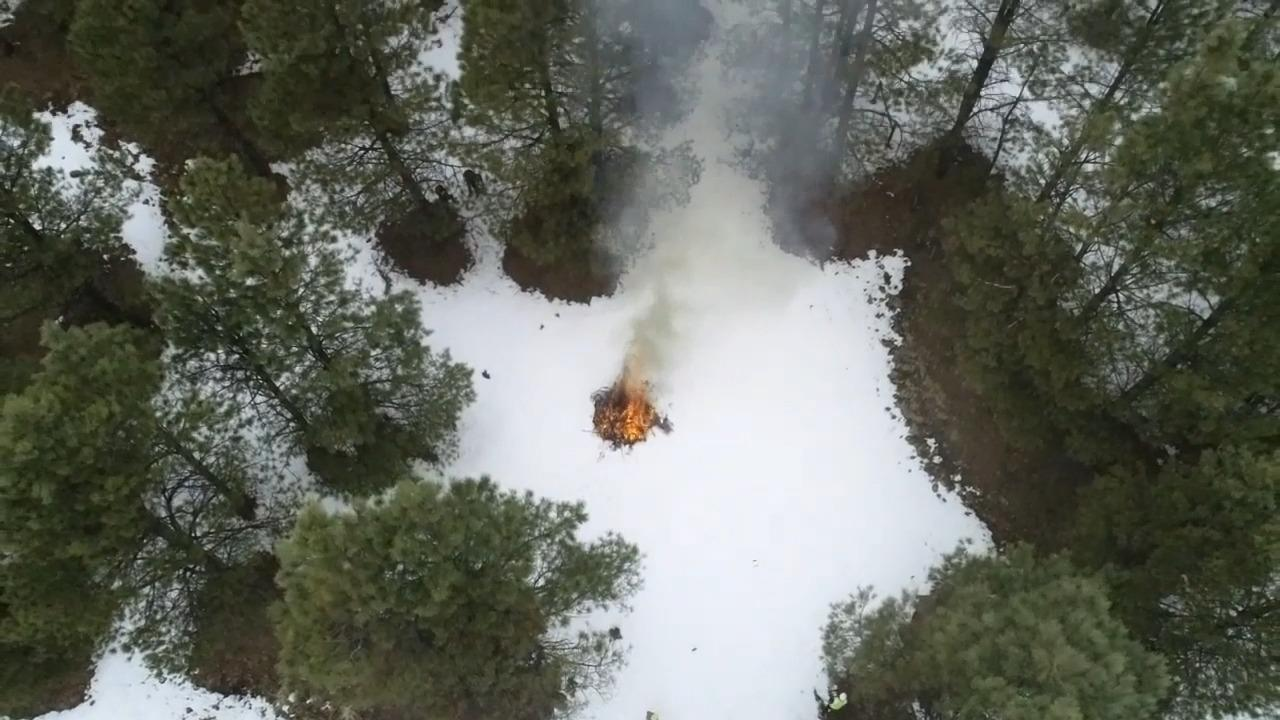fire: (577, 351, 687, 445)
smoke: (610, 0, 861, 185)
